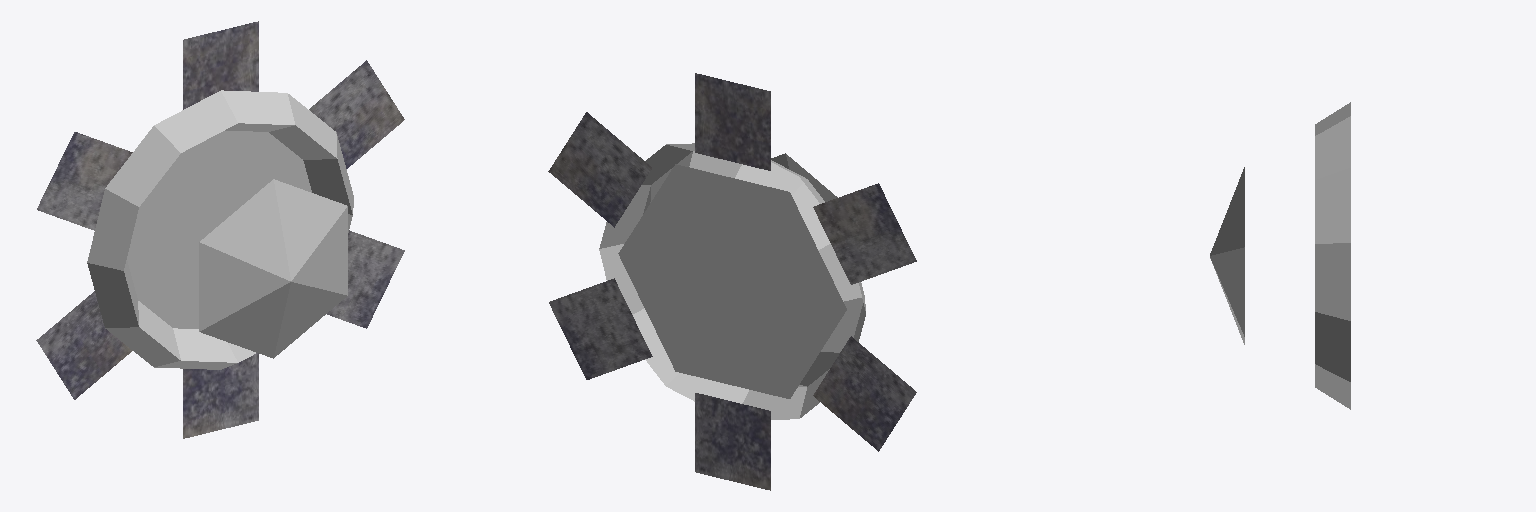
3 renders of one model, left to right at view 1: azimuth 30°, elevation 25°; view 2: azimuth 150°, elevation 25°; view 3: azimuth 270°, elevation 25°, orthographic.
Visible parts, largest first — view 1: Plane; view 2: Plane; view 3: Plane.
Part boxes in pixels (left/top/right/bottom): Plane: left=36, top=21, right=404, bottom=438; Plane: left=548, top=73, right=916, bottom=490; Plane: left=1210, top=102, right=1350, bottom=409.
Size of the model in its own units: 1.21 by 1.25 by 0.4.
2 materials, 1 textured.